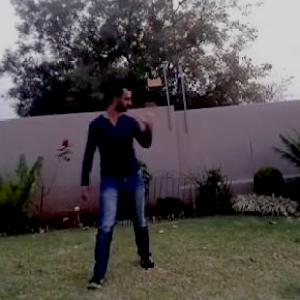follow_hand: (138, 98, 160, 128)
